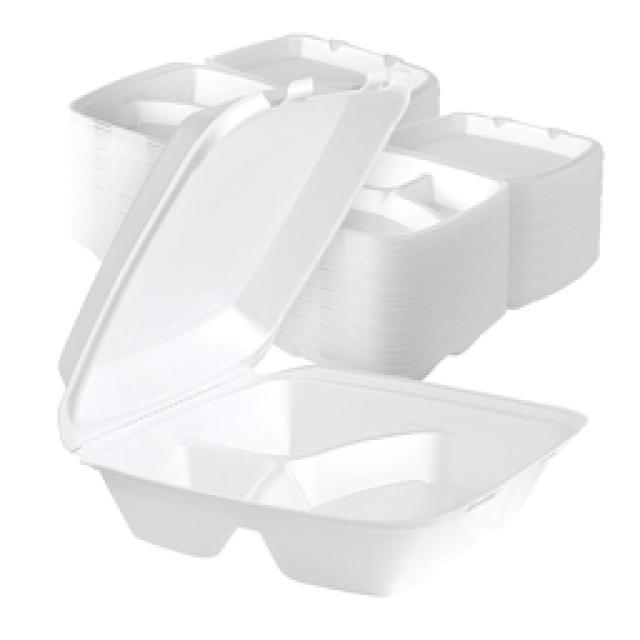styrofoam: (58, 35, 600, 592)
